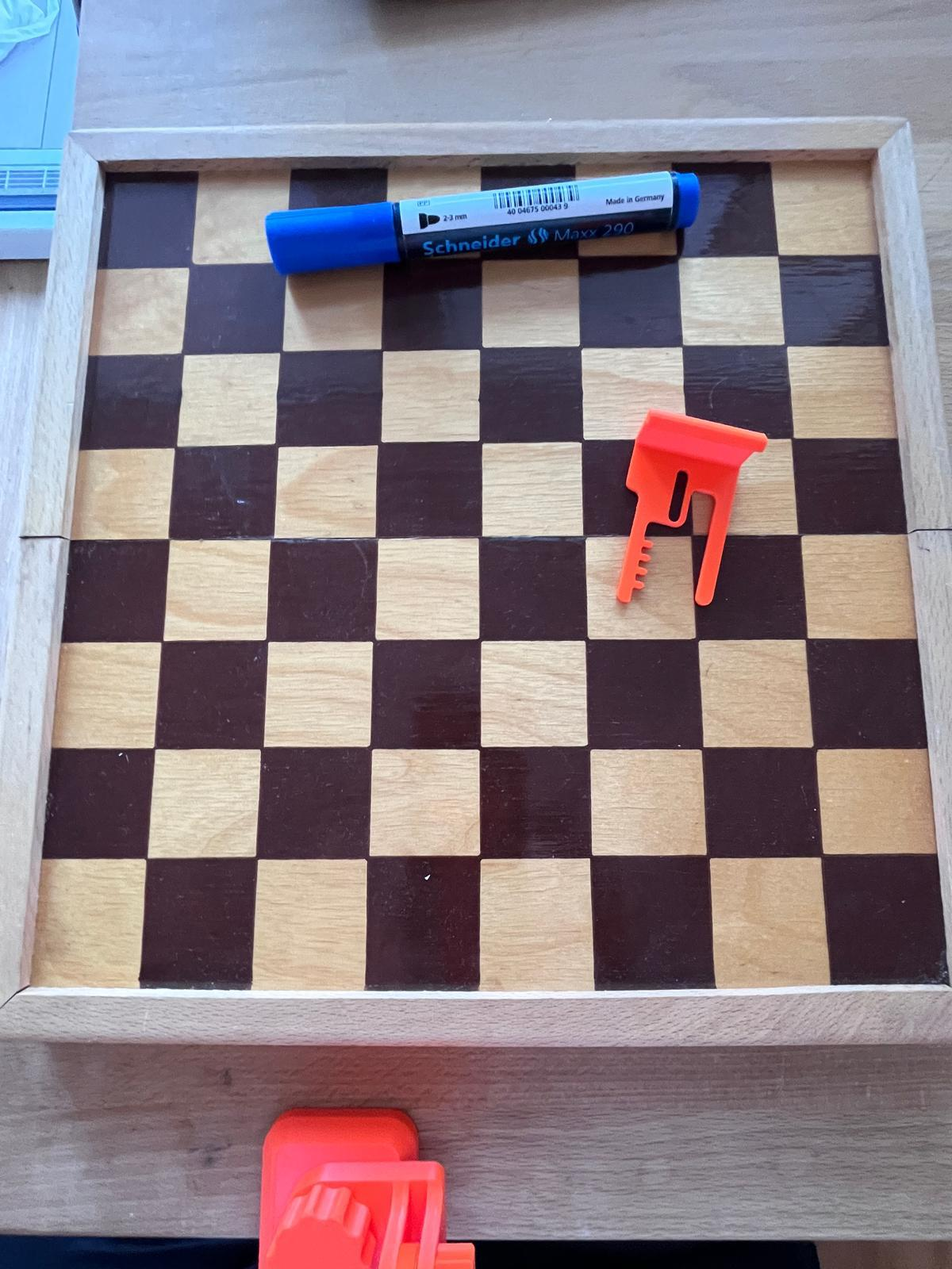clipper: (598, 406, 774, 615)
marker: (268, 173, 701, 271)
